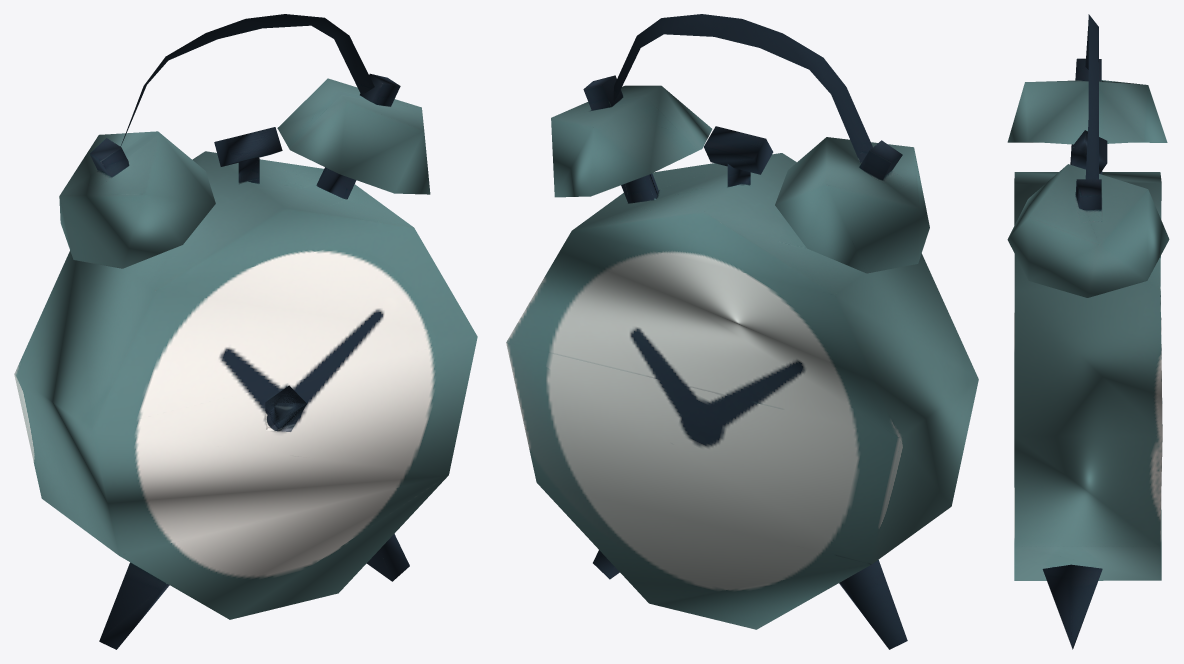
File: alarm_clock.fbx
3 renders of one model, left to right at view 1: azimuth 30°, elevation 25°; view 2: azimuth 150°, elevation 25°; view 3: azimuth 270°, elevation 25°, orthographic. The views are drawn at different scales.
Parts seen in each view (by area): view 1: Mesh_0; view 2: Mesh_0; view 3: Mesh_0.
Boxes of the visible parts, <box> form: Mesh_0: <box>14,14,477,649</box>; Mesh_0: <box>506,14,978,649</box>; Mesh_0: <box>1007,14,1169,649</box>.
Size of the model in its own units: 65.09 by 95.31 by 25.29.
Materials: 1 (1 with a texture image).
